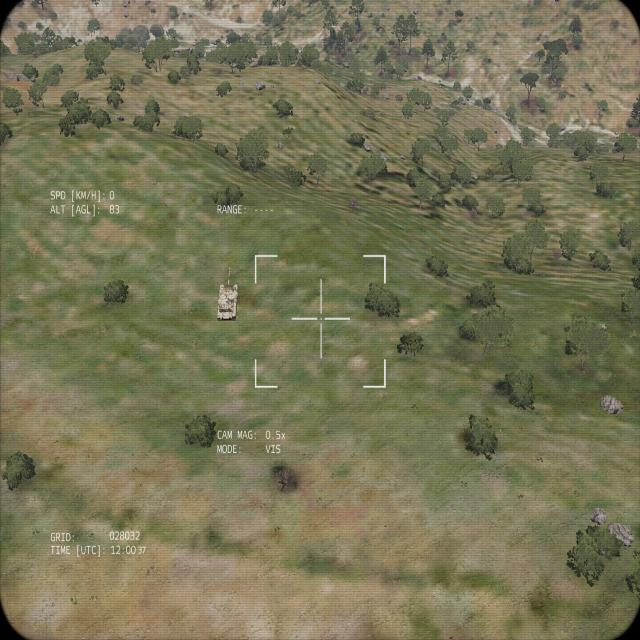tank: (215, 267, 239, 323)
